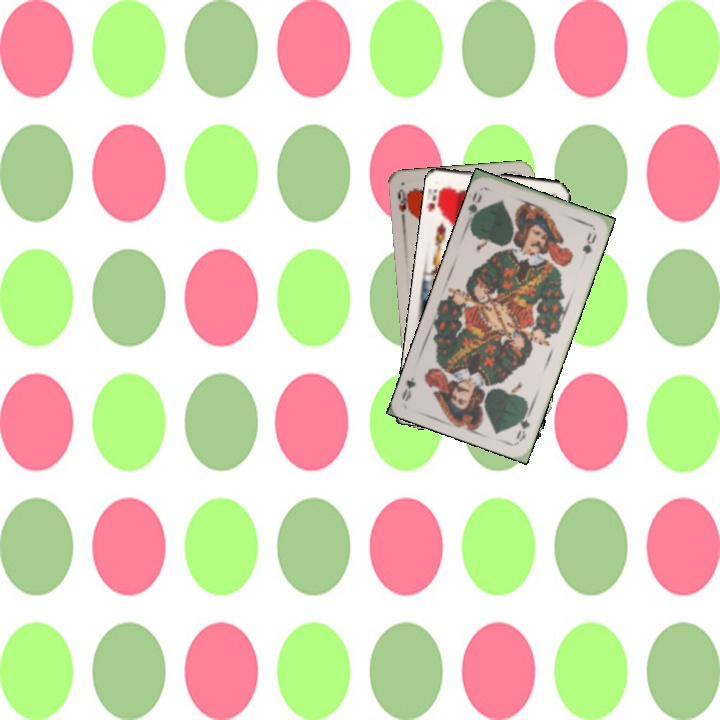GO: (512, 403, 535, 444), (464, 187, 485, 226)
HK: (427, 183, 447, 219)
HO: (394, 184, 412, 225)
